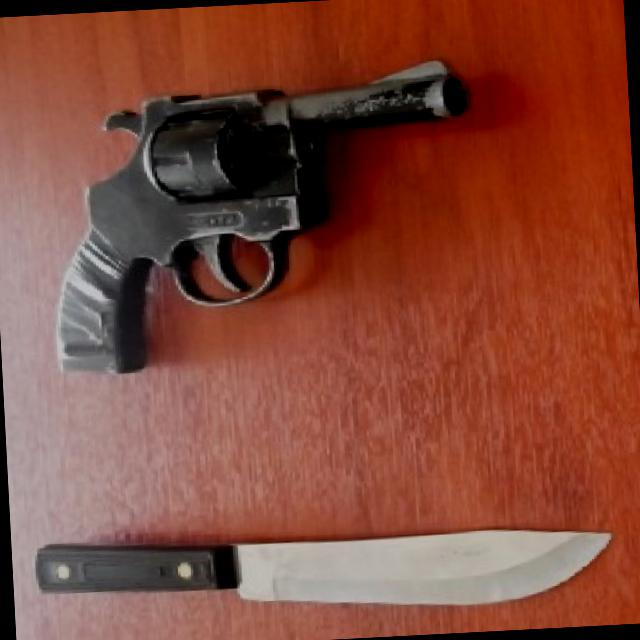knife: (167, 516, 630, 626)
